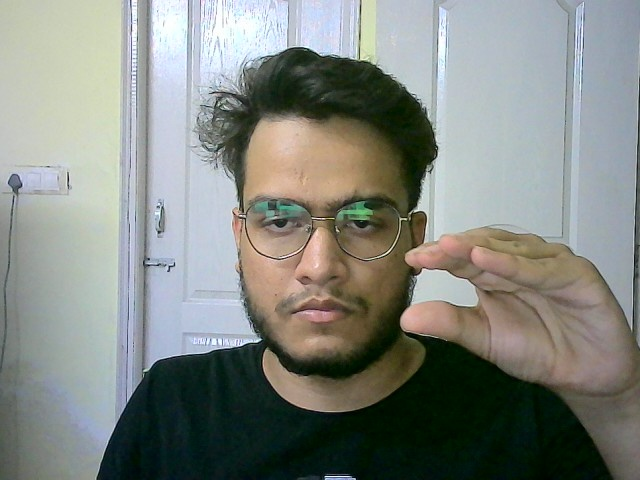No: (394, 219, 640, 409)
